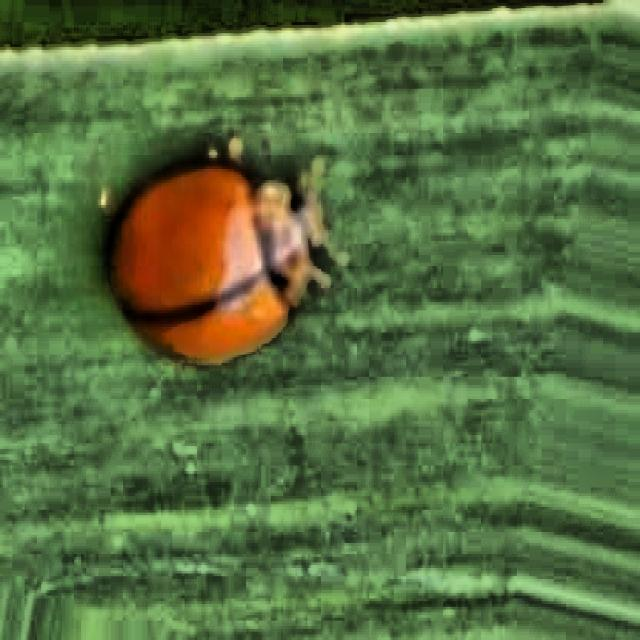Ladybug: (86, 98, 346, 393)
